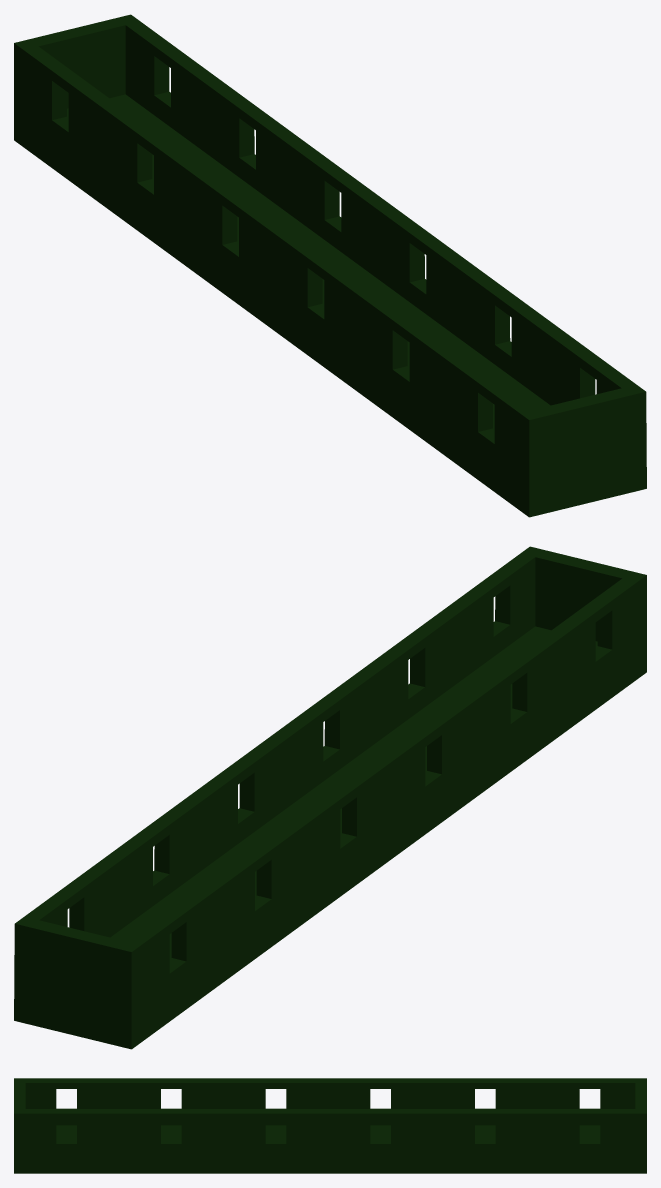
File: wall-top7.fbx
The picture shows the model from 3 angles, top to bottom: view 1: azimuth 30°, elevation 25°; view 2: azimuth 150°, elevation 25°; view 3: azimuth 270°, elevation 25°; orthographic projection. The views are drawn at different scales.
Visible parts, largest first — view 1: wall-top7; view 2: wall-top7; view 3: wall-top7.
Boxes of the visible parts, bbox=[...] form: wall-top7: bbox=[14, 14, 646, 517]; wall-top7: bbox=[14, 546, 646, 1049]; wall-top7: bbox=[14, 1078, 646, 1173].
Bounding box in the file's own units: 1.96 × 1.55 × 14.87.
